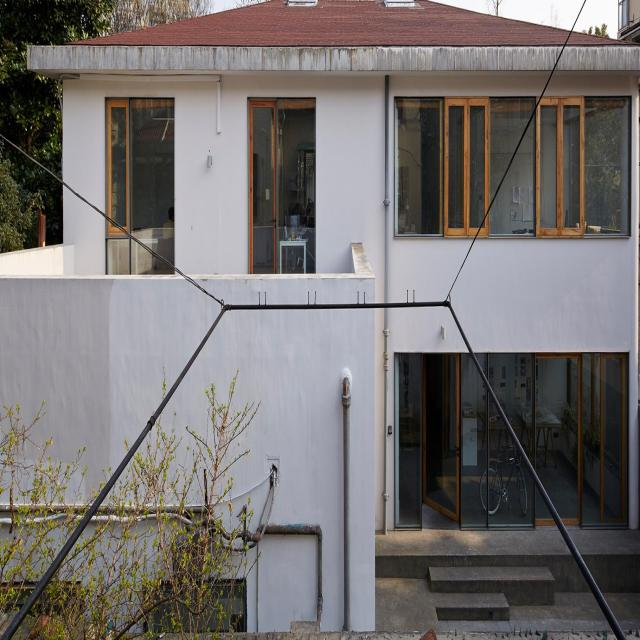door: (419, 346, 460, 533)
window: (395, 350, 630, 529), (395, 98, 630, 238), (105, 96, 174, 281), (249, 91, 315, 276)
